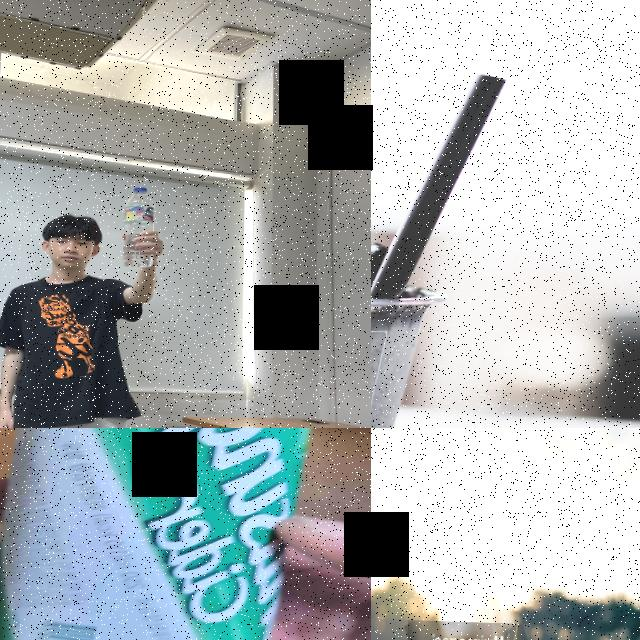bottle: (118, 185, 162, 268)
can: (0, 428, 325, 640)
